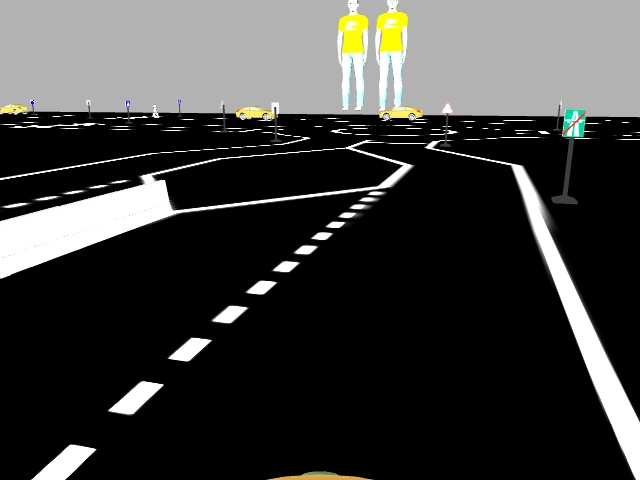HighwayExit: (560, 108, 586, 138)
